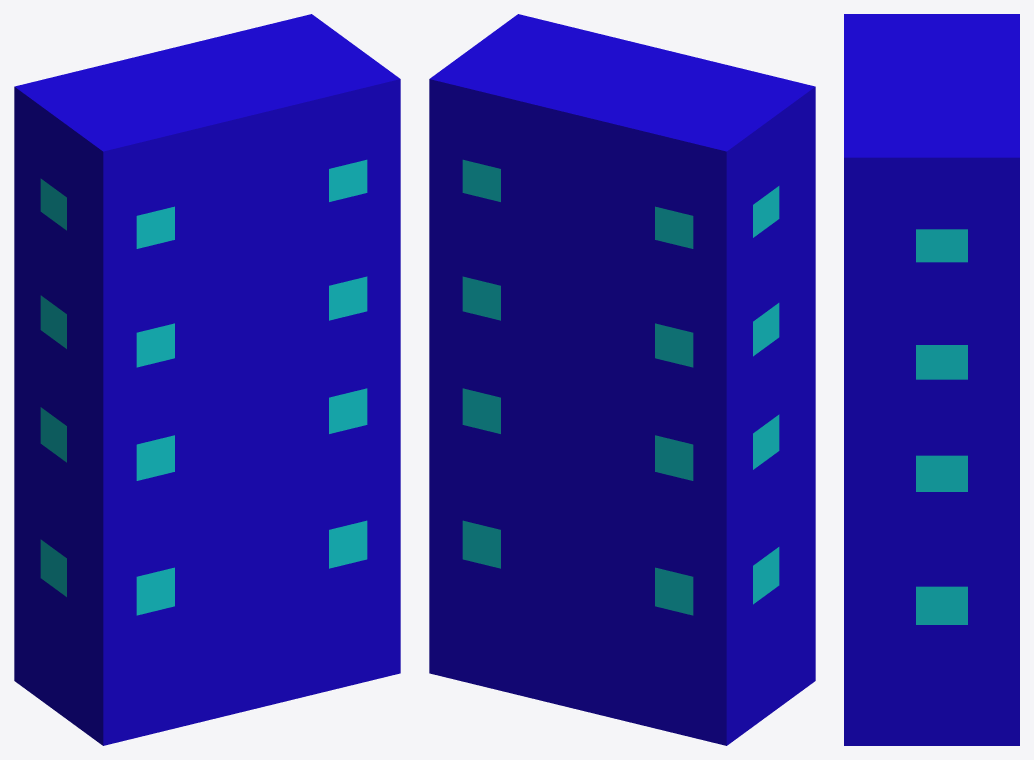
File: smallbuilding4.fbx
3 views of the same model, side by side, from view 1: azimuth 30°, elevation 25°; view 2: azimuth 150°, elevation 25°; view 3: azimuth 270°, elevation 25° (orthographic).
Parts seen in each view (by area): view 1: Cube; view 2: Cube; view 3: Cube.
Boxes of the visible parts, left/top/right/bottom form: Cube: left=14, top=14, right=400, bottom=745; Cube: left=429, top=14, right=815, bottom=745; Cube: left=844, top=14, right=1019, bottom=745.
Size of the model in its own units: 387 by 738 by 200.
